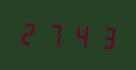four: (66, 19, 89, 51)
seven: (42, 18, 65, 49)
three: (90, 21, 113, 52)
two: (18, 17, 41, 48)
